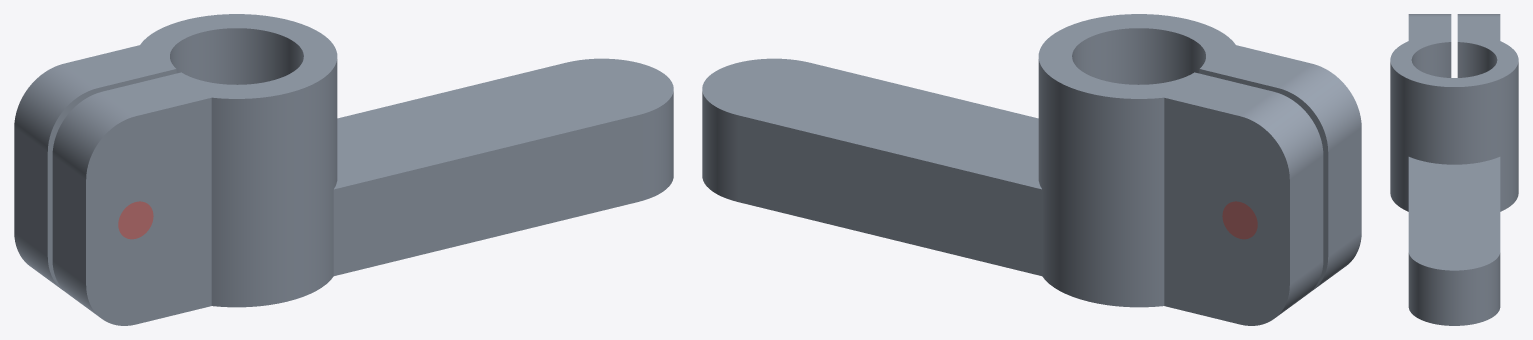
The model's file is step_06.glb.
3 renders of one model, left to right at view 1: azimuth 30°, elevation 25°; view 2: azimuth 150°, elevation 25°; view 3: azimuth 270°, elevation 25°, orthographic. The views are drawn at different scales.
Parts seen in each view (by area): view 1: part__split clamp lever, removed__split clamp lever; view 2: part__split clamp lever, removed__split clamp lever; view 3: part__split clamp lever.
Part boxes in pixels (left/top/right/bottom): part__split clamp lever: left=14, top=14, right=673, bottom=325; removed__split clamp lever: left=118, top=201, right=153, bottom=239; part__split clamp lever: left=702, top=14, right=1361, bottom=325; removed__split clamp lever: left=1222, top=201, right=1257, bottom=239; part__split clamp lever: left=1390, top=14, right=1518, bottom=325.
Bounding box in the file's own units: 148 × 48 × 42.
